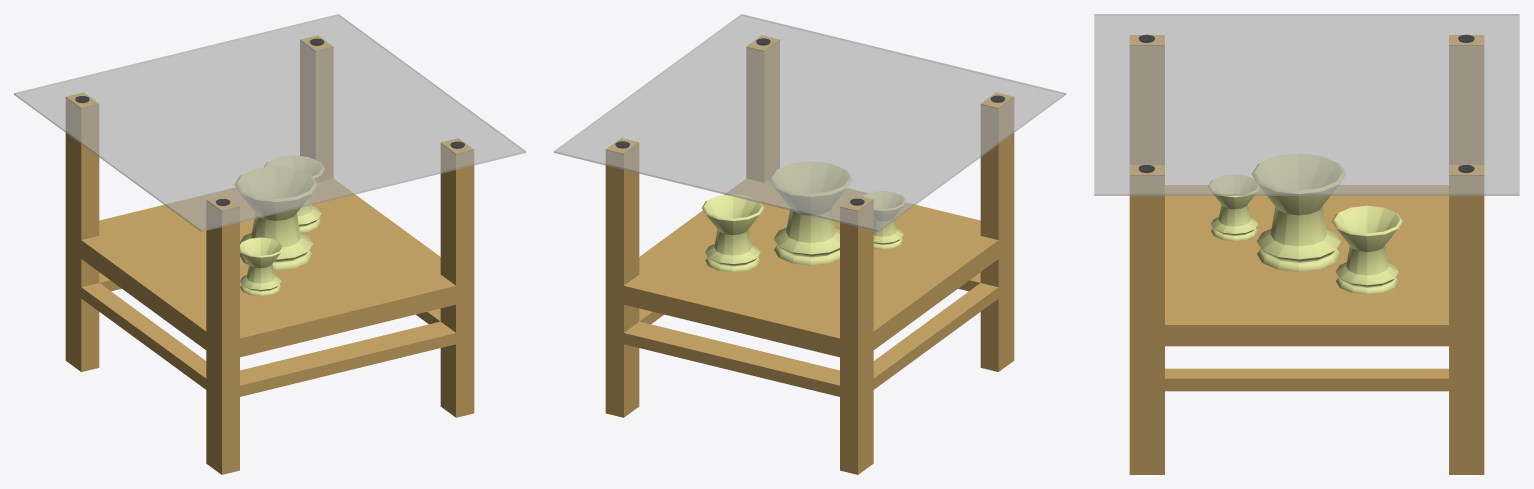
File: table.fbx
The picture shows the model from 3 angles, left to right: view 1: azimuth 30°, elevation 25°; view 2: azimuth 150°, elevation 25°; view 3: azimuth 270°, elevation 25°; orthographic projection. The views are drawn at different scales.
Visible parts, largest first — view 1: Cone.003, Cube.001, Cylinder, Cylinder.002, Cylinder.001; view 2: Cone.003, Cube.001, Cylinder, Cylinder.001, Cylinder.002; view 3: Cube.001, Cone.003, Cylinder, Cylinder.001, Cylinder.002.
Part boxes in pixels (x1=…): Cone.003: x1=65, y1=35, x2=474, y2=474; Cube.001: x1=14, y1=14, x2=525, y2=231; Cylinder: x1=234, y1=166, x2=317, y2=270; Cylinder.002: x1=240, y1=237, x2=283, y2=296; Cylinder.001: x1=264, y1=155, x2=324, y2=232; Cone.003: x1=605, y1=35, x2=1014, y2=474; Cube.001: x1=554, y1=14, x2=1065, y2=231; Cylinder: x1=769, y1=161, x2=852, y2=265; Cylinder.001: x1=702, y1=194, x2=763, y2=272; Cylinder.002: x1=862, y1=191, x2=905, y2=249; Cube.001: x1=1094, y1=14, x2=1519, y2=195; Cone.003: x1=1129, y1=34, x2=1484, y2=474; Cylinder: x1=1252, y1=153, x2=1345, y2=271; Cylinder.001: x1=1332, y1=205, x2=1402, y2=294; Cylinder.002: x1=1208, y1=174, x2=1259, y2=241.
Size of the model in its own units: 90 by 70.38 by 90.
